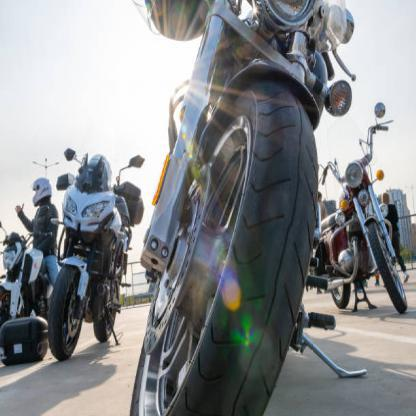Motorcycle: (127, 0, 354, 415), (45, 139, 139, 369), (320, 104, 414, 320), (0, 217, 45, 330)
